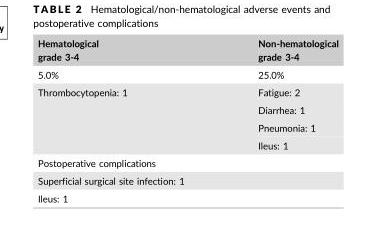table: (37, 37, 337, 203)
table column: (37, 37, 192, 203), (192, 37, 337, 203)
table column header: (37, 37, 337, 65)
table projected row header: (37, 153, 337, 171), (37, 171, 337, 189), (37, 189, 337, 203)
table row: (37, 37, 337, 65), (37, 82, 337, 100), (37, 100, 337, 118), (37, 135, 337, 153), (37, 153, 337, 171), (37, 171, 337, 189), (37, 65, 337, 82), (37, 118, 337, 135), (37, 189, 337, 203)
table spanning cell: (37, 82, 192, 153)
